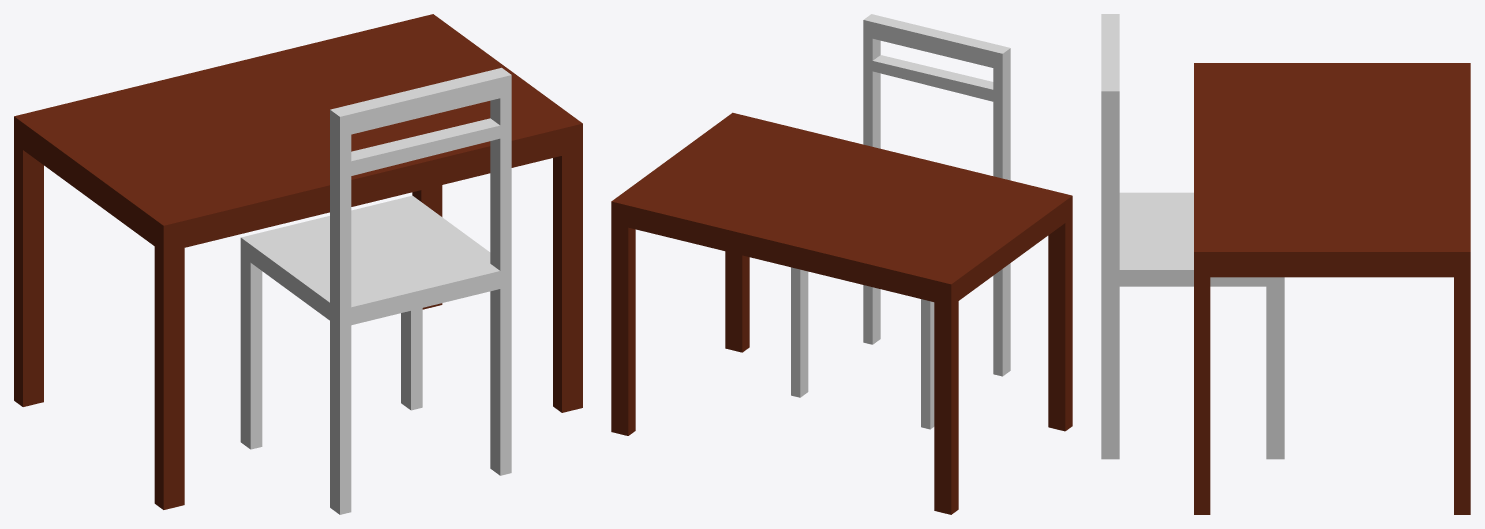
The model's file is table_chair.fbx.
The picture shows the model from 3 angles, left to right: view 1: azimuth 30°, elevation 25°; view 2: azimuth 150°, elevation 25°; view 3: azimuth 270°, elevation 25°; orthographic projection. The views are drawn at different scales.
Parts seen in each view (by area): view 1: table, chair; view 2: table, chair; view 3: table, chair.
Boxes of the visible parts, bbox=[...] form: table: bbox=[14, 14, 582, 509]; chair: bbox=[240, 67, 511, 514]; table: bbox=[611, 112, 1072, 514]; chair: bbox=[791, 14, 1010, 429]; table: bbox=[1194, 63, 1470, 514]; chair: bbox=[1101, 14, 1284, 459].
Bounding box in the file's own units: 267 × 294 × 324.
